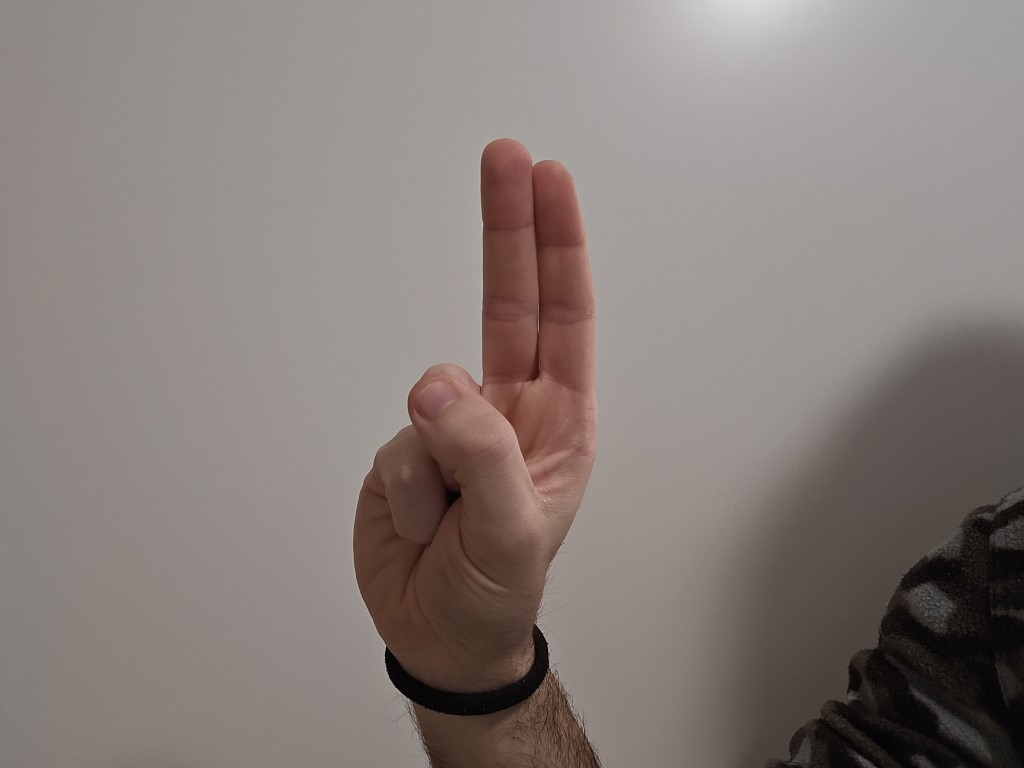u: (288, 123, 623, 648)
